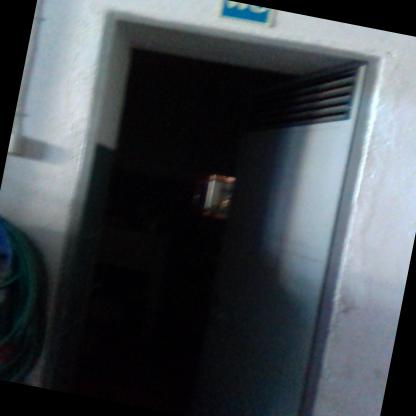open: (21, 0, 394, 415)
